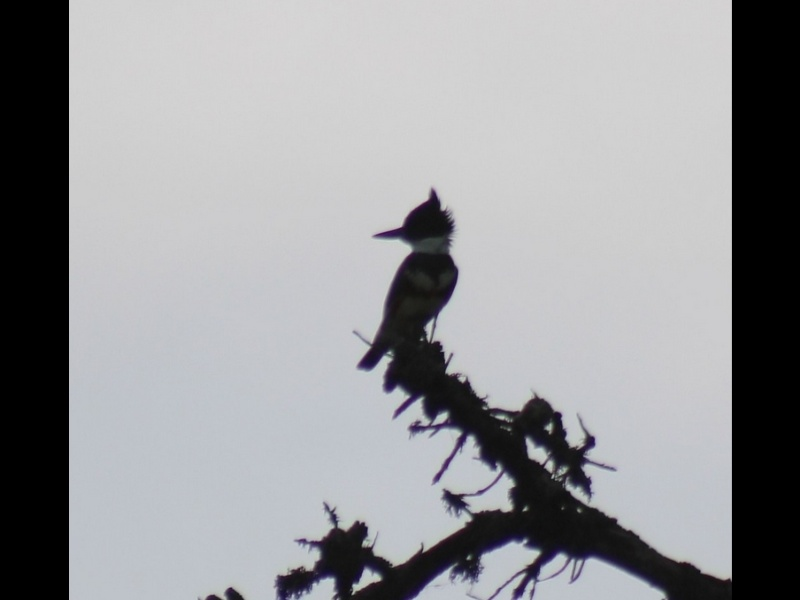kingfisher: (355, 189, 459, 372)
